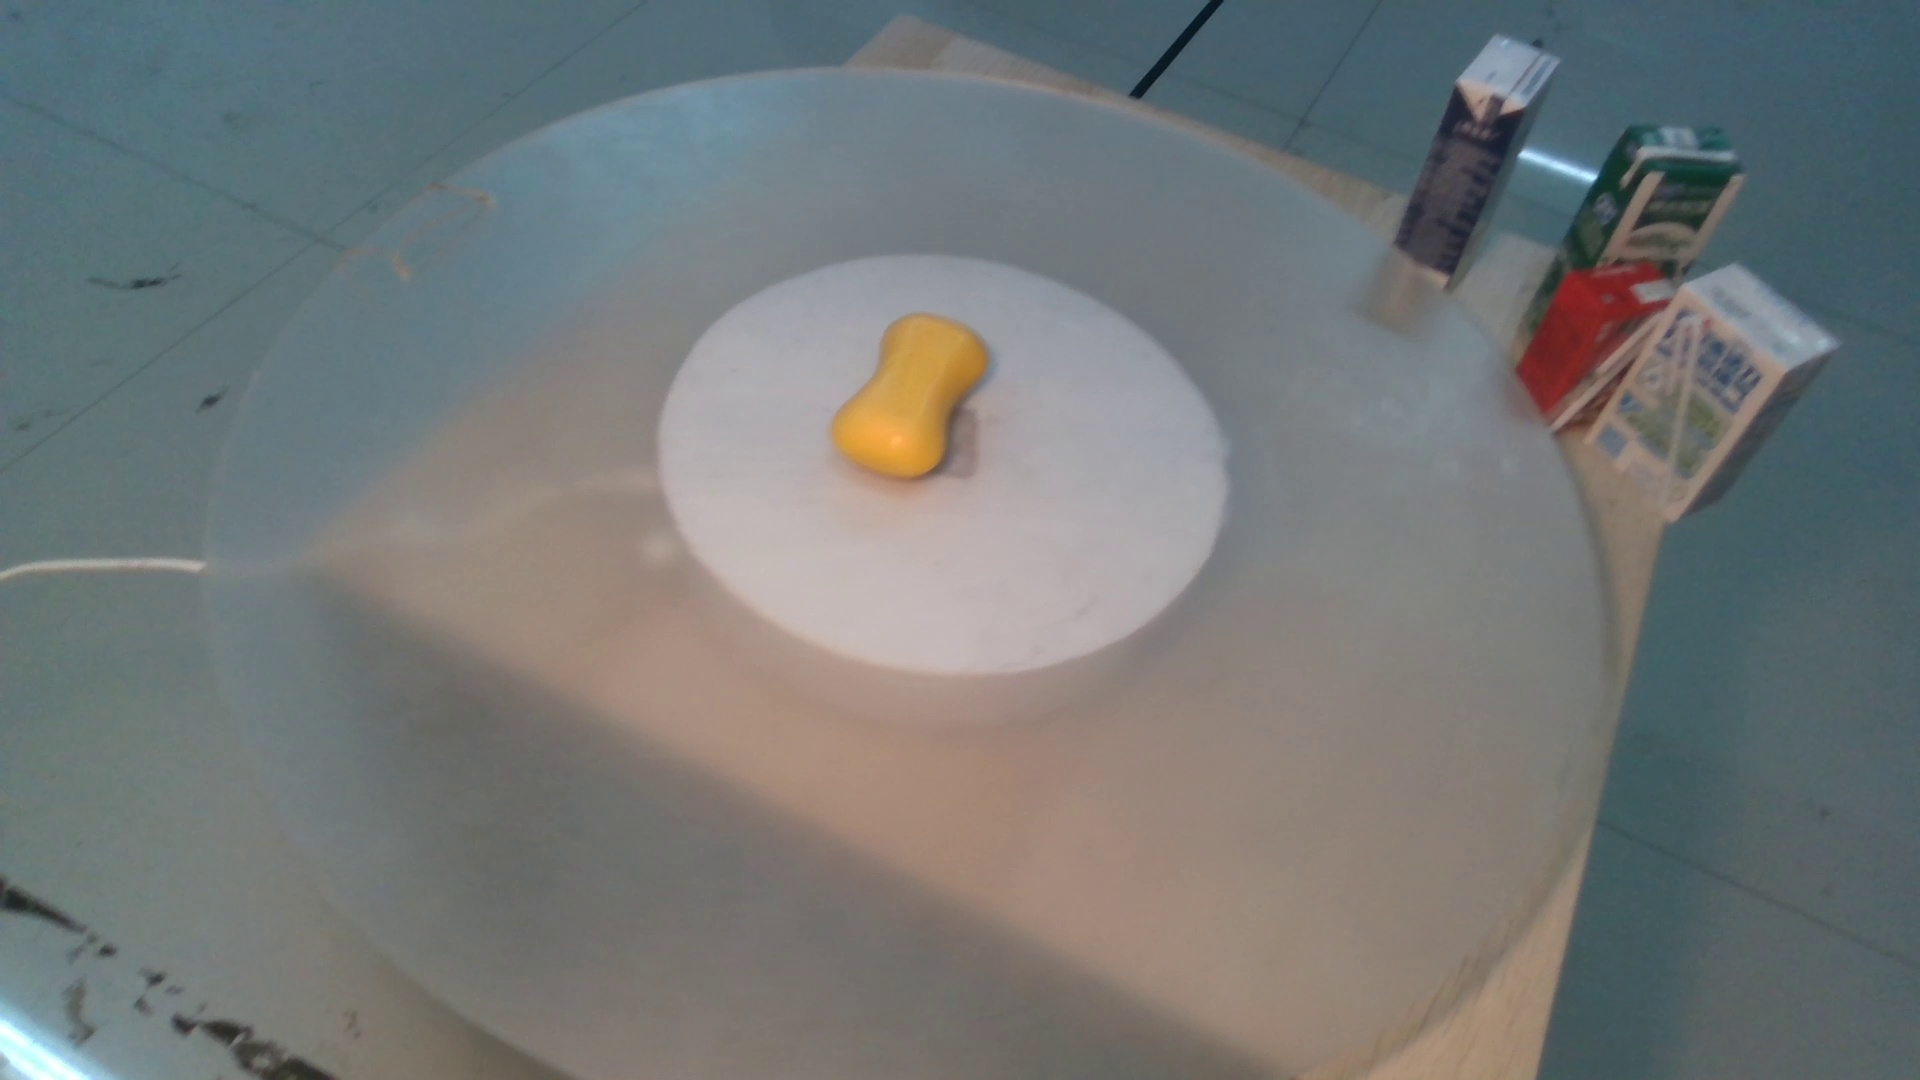CA003_1: (808, 309, 1015, 476)
